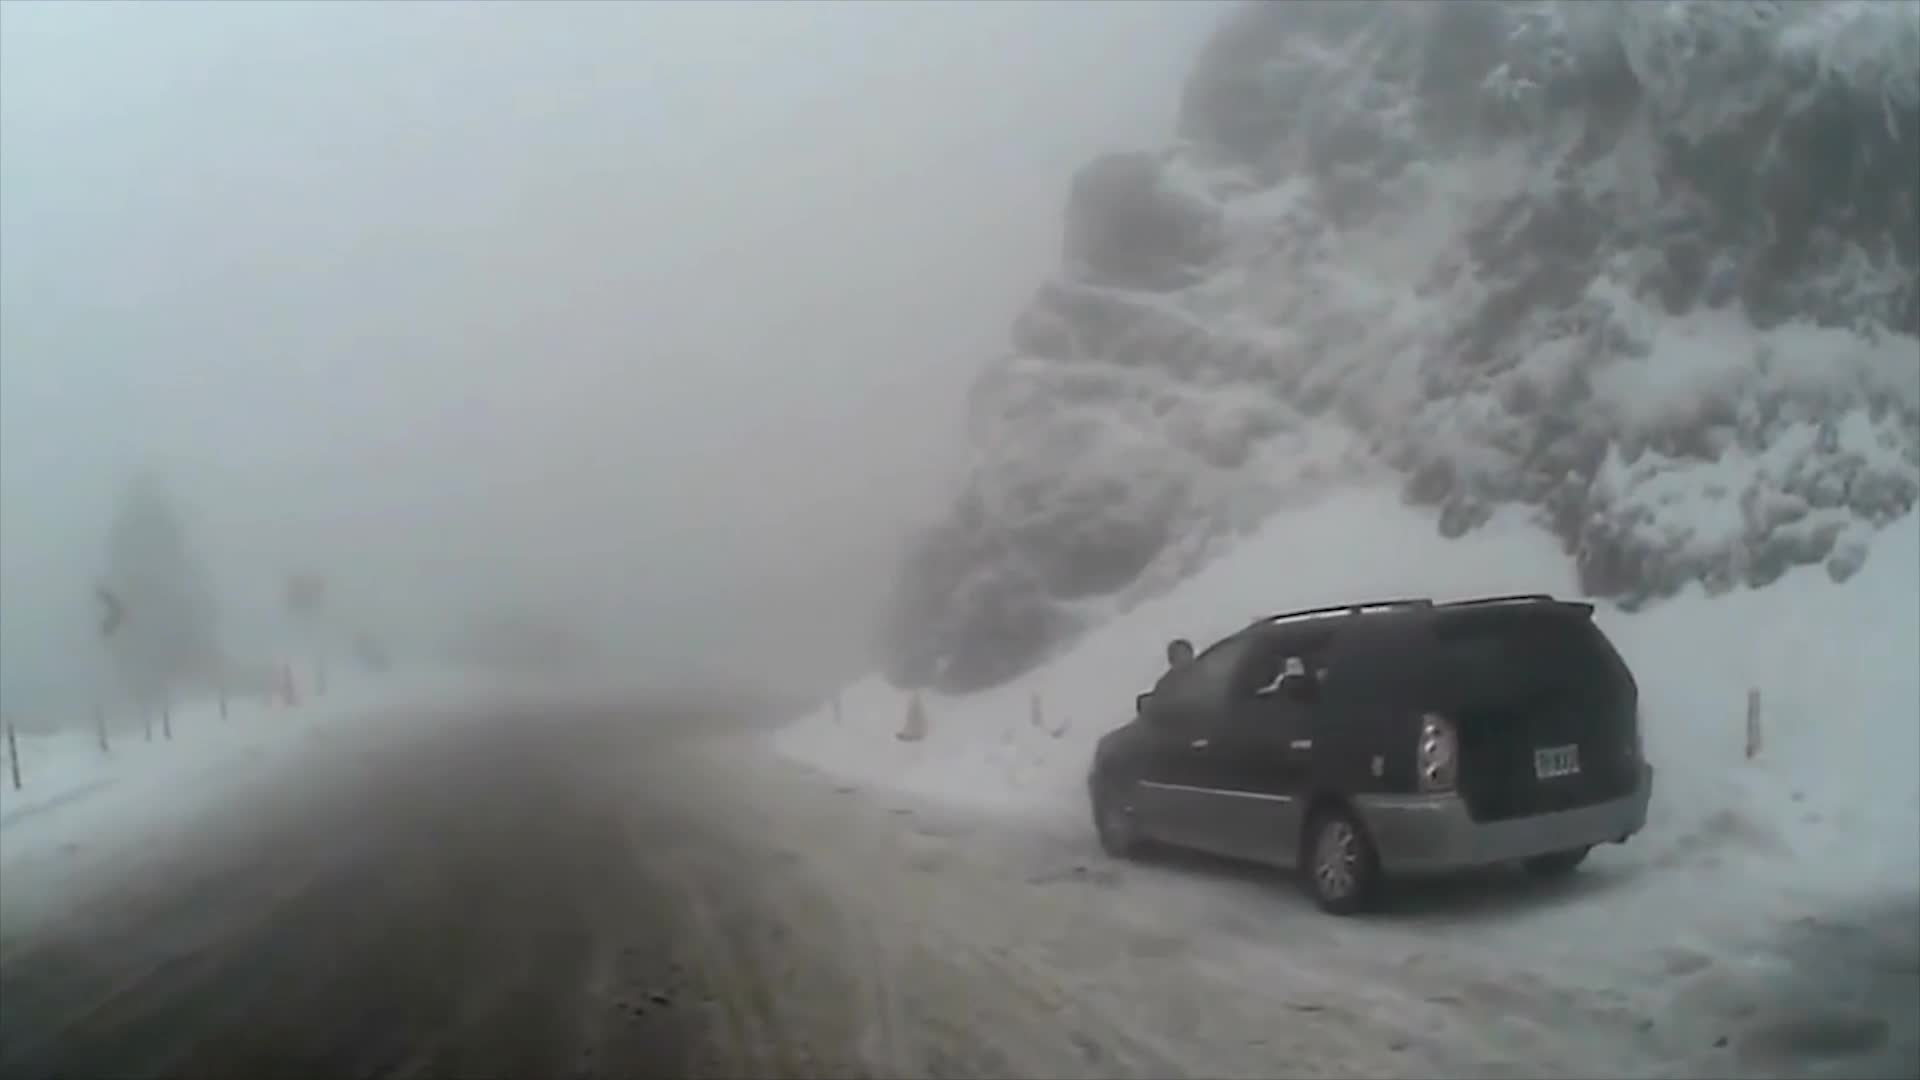vehicle: (1084, 587, 1654, 916)
